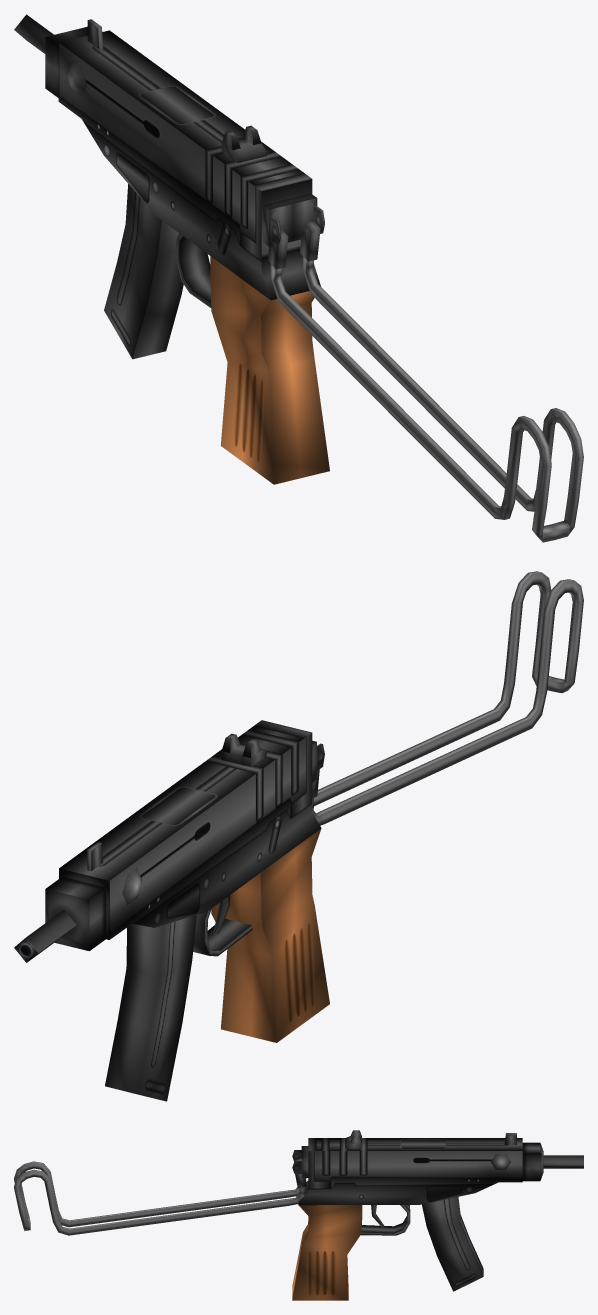
The picture shows the model from 3 angles, top to bottom: view 1: azimuth 30°, elevation 25°; view 2: azimuth 150°, elevation 25°; view 3: azimuth 270°, elevation 25°; orthographic projection. The views are drawn at different scales.
Parts seen in each view (by area): view 1: body; view 2: body; view 3: body, mover_bolt.
Boxes of the visible parts, left/top/right/bottom form: body: left=14, top=14, right=583, bottom=542; body: left=14, top=571, right=583, bottom=1101; body: left=14, top=1130, right=583, bottom=1300; mover_bolt: left=491, top=1154, right=510, bottom=1169.
Bounding box in the file's own units: 0.0361 × 0.1614 × 0.5211.
1 material, 1 textured.
